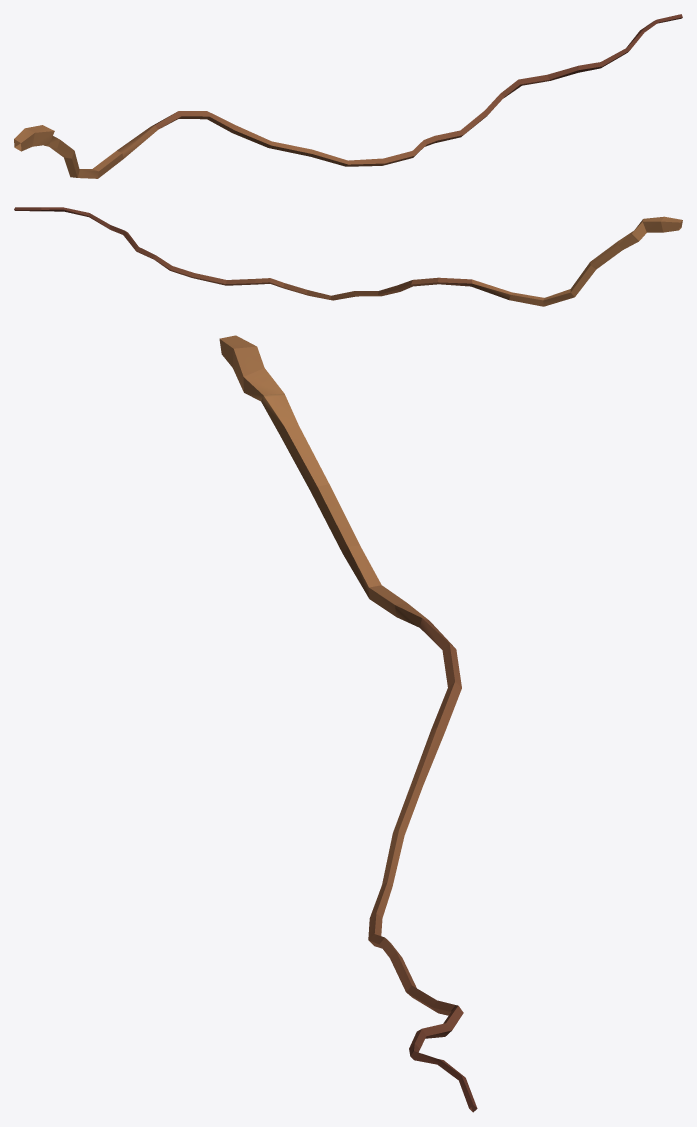
File: ZLP_Plant_Vine_A_5.FBX
3 views of the same model, one above another, from view 1: azimuth 30°, elevation 25°; view 2: azimuth 150°, elevation 25°; view 3: azimuth 270°, elevation 25° (orthographic). The views are drawn at different scales.
Parts seen in each view (by area): view 1: ZLP_Plant_Vine_A_5; view 2: ZLP_Plant_Vine_A_5; view 3: ZLP_Plant_Vine_A_5.
Boxes of the visible parts, <box> form: ZLP_Plant_Vine_A_5: <box>14,14,682,178</box>; ZLP_Plant_Vine_A_5: <box>14,207,682,306</box>; ZLP_Plant_Vine_A_5: <box>219,335,477,1112</box>.
Bounding box in the file's own units: 1151 × 240 × 212.
